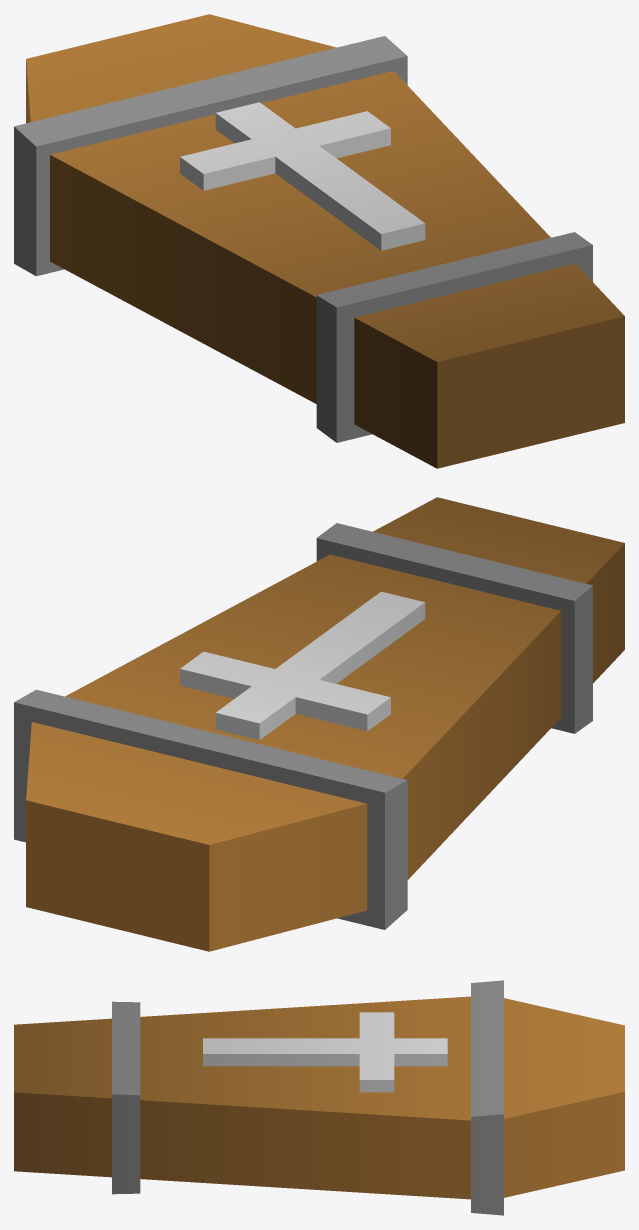
The model's file is coffin 2.fbx.
3 views of the same model, one above another, from view 1: azimuth 30°, elevation 25°; view 2: azimuth 150°, elevation 25°; view 3: azimuth 270°, elevation 25° (orthographic). The views are drawn at different scales.
Parts seen in each view (by area): view 1: coffin 2; view 2: coffin 2; view 3: coffin 2.
Boxes of the visible parts, <box> form: coffin 2: <box>14,14,624,468</box>; coffin 2: <box>14,497,624,951</box>; coffin 2: <box>14,980,624,1215</box>.
Bounding box in the file's own units: 110 × 39.17 × 211.
